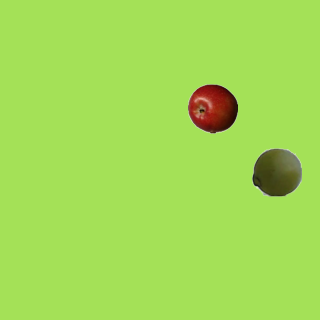Apple Braeburn: (187, 83, 237, 133)
Grape White 4: (251, 146, 301, 196)
